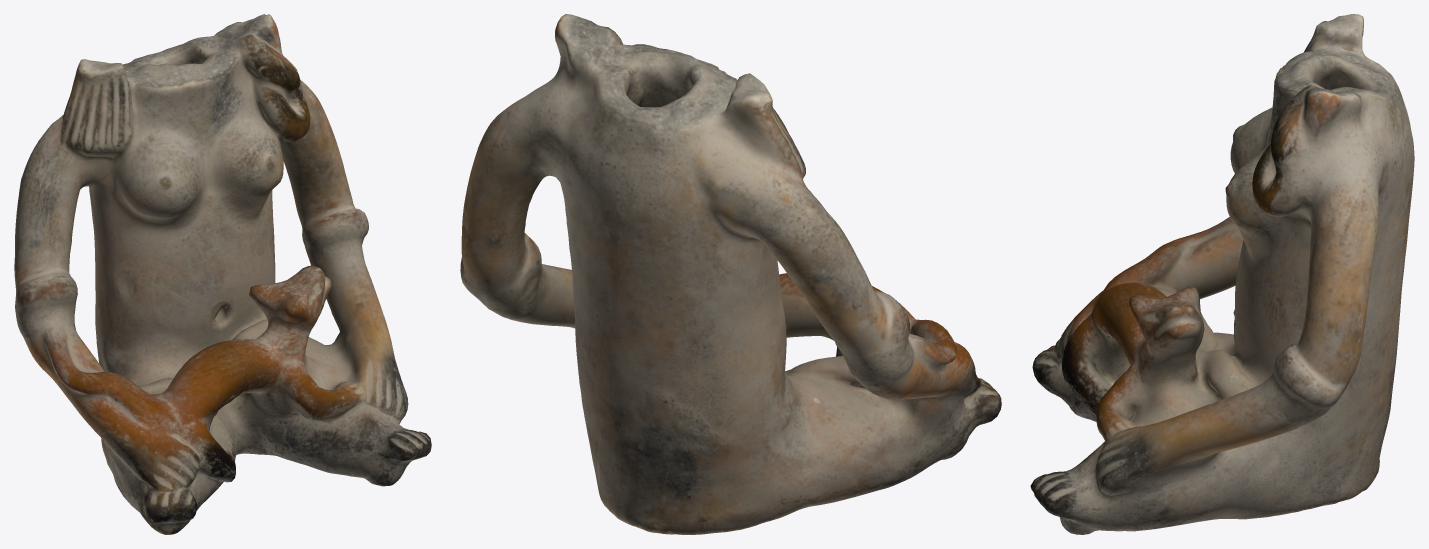
Rendered from cuerpo70k.glb.
The picture shows the model from 3 angles, left to right: view 1: azimuth 30°, elevation 25°; view 2: azimuth 150°, elevation 25°; view 3: azimuth 270°, elevation 25°; orthographic projection. The views are drawn at different scales.
Visible parts, largest first — view 1: cuerpo_70k; view 2: cuerpo_70k; view 3: cuerpo_70k.
Part boxes in pixels (x1,y1,x2,y2): cuerpo_70k: (14, 14, 431, 534); cuerpo_70k: (460, 14, 1001, 534); cuerpo_70k: (1030, 14, 1414, 534).
Size of the model in its own units: 0.1335 by 0.1399 by 0.1116.
1 material, 1 textured.
